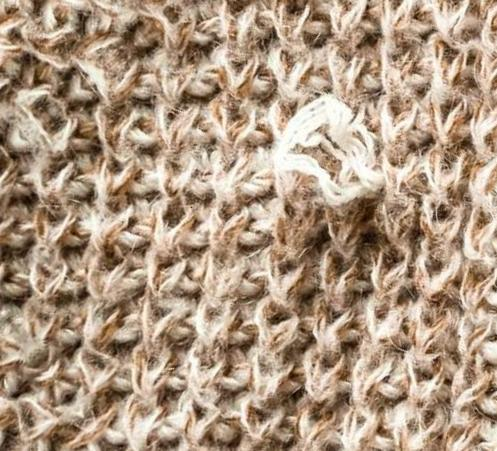snag: (264, 87, 395, 217)
